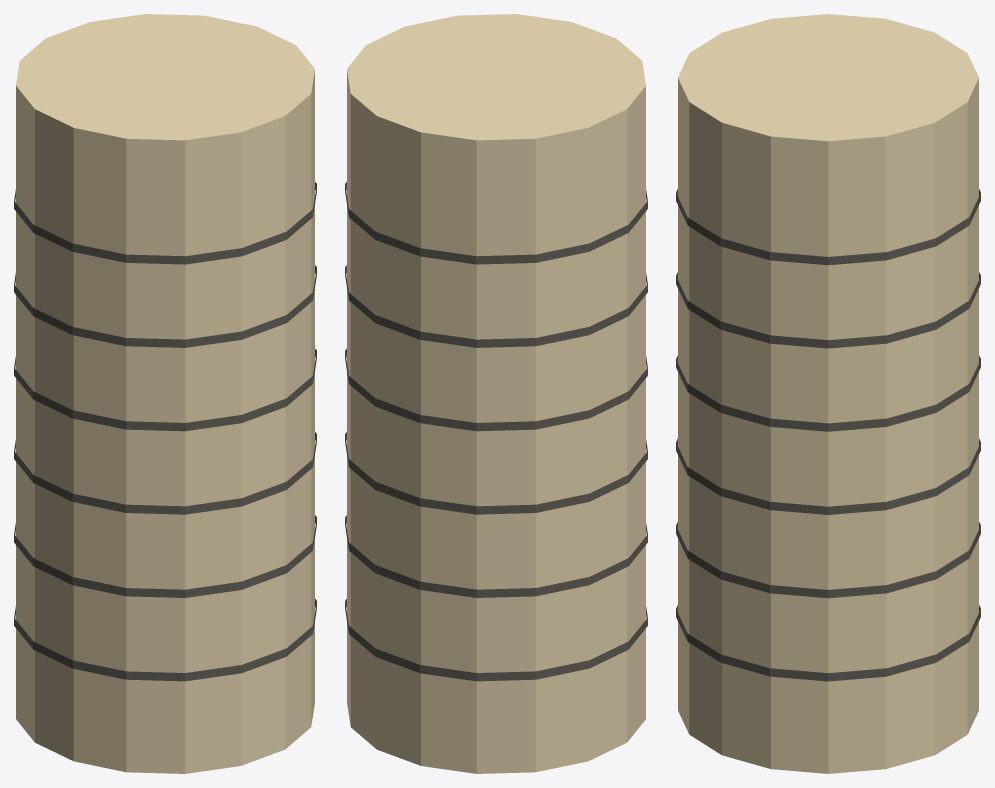
The model's file is message_letter.glb.
3 views of the same model, side by side, from view 1: azimuth 30°, elevation 25°; view 2: azimuth 150°, elevation 25°; view 3: azimuth 270°, elevation 25° (orthographic).
Visible parts, largest first — view 1: Rolled_message, Letter_ink.003, Letter_ink.001, Letter_ink.004, Letter_ink.005, Letter_ink, Letter_ink.002; view 2: Rolled_message, Letter_ink.003, Letter_ink.001, Letter_ink.004, Letter_ink.005, Letter_ink, Letter_ink.002; view 3: Rolled_message, Letter_ink.001, Letter_ink.004, Letter_ink, Letter_ink.005, Letter_ink.002, Letter_ink.003.
Boxes of the visible parts, x1,y1,x2,y2 form: Rolled_message: (16,14,314,773); Letter_ink.003: (14,348,316,431); Letter_ink.001: (14,515,316,597); Letter_ink.004: (14,265,316,347); Letter_ink.005: (14,182,316,264); Letter_ink: (14,599,316,681); Letter_ink.002: (14,432,316,514); Rolled_message: (347,14,645,773); Letter_ink.003: (345,348,647,431); Letter_ink.001: (345,515,647,597); Letter_ink.004: (345,265,647,347); Letter_ink.005: (345,182,647,264); Letter_ink: (345,599,647,681); Letter_ink.002: (345,432,647,514); Rolled_message: (678,14,978,773); Letter_ink.001: (676,522,980,598); Letter_ink.004: (676,272,980,348); Letter_ink: (676,605,980,681); Letter_ink.005: (676,189,980,265); Letter_ink.002: (676,438,980,514); Letter_ink.003: (676,355,980,431).
Size of the model in its own units: 0.083 by 0.19 by 0.083.
